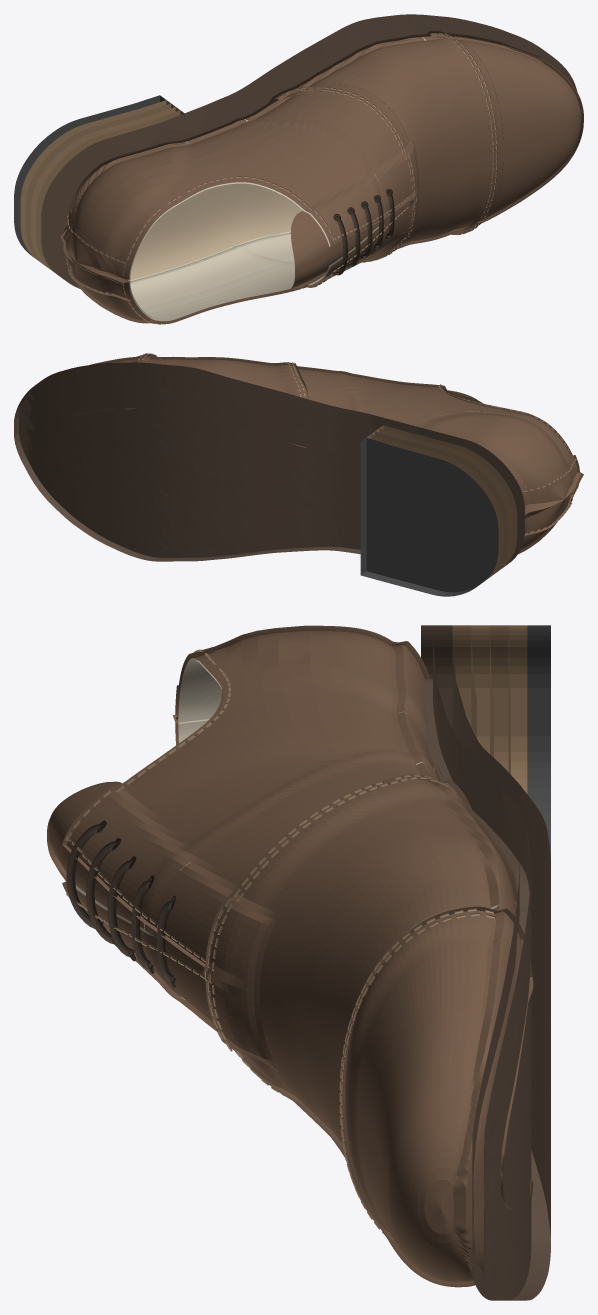
File: oxford_42_sx.glb
The picture shows the model from 3 angles, top to bottom: view 1: azimuth 30°, elevation 25°; view 2: azimuth 150°, elevation 25°; view 3: azimuth 270°, elevation 25°; orthographic projection. The views are drawn at different scales.
Parts seen in each view (by area): view 1: quartiere_esterno, mascherina, puntale, guardolo, sottopiede, fodera_quartiere_interno, suola, bacchetta, quartiere_interno, linguetta, sopratacco, tacco_alzo_3 (+8 smaller); view 2: suola, sopratacco, quartiere_esterno, mascherina, bacchetta, guardolo, tacco_alzo_4, tacco_alzo_1, tacco_alzo_2, tacco_alzo_3; view 3: quartiere_esterno, mascherina, puntale, suola, guardolo, sopratacco, quartiere_interno, linguetta, tacco_alzo_4, tacco_alzo_3, tacco_alzo_2, fodera_quartiere_esterno (+7 smaller).
Boxes of the visible parts, box(x1,y1,x2,y2) form: quartiere_esterno: box(69, 83, 418, 282); mascherina: box(269, 33, 503, 262); puntale: box(427, 30, 583, 234); guardolo: box(46, 18, 577, 289); sottopiede: box(130, 183, 302, 280); fodera_quartiere_interno: box(128, 225, 384, 321); suola: box(41, 14, 542, 278); bacchetta: box(60, 204, 130, 301); quartiere_interno: box(77, 190, 418, 324); linguetta: box(290, 141, 418, 289); sopratacco: box(14, 95, 165, 257); tacco_alzo_3: box(25, 103, 175, 265); suola: box(14, 364, 522, 567); sopratacco: box(360, 437, 498, 596); quartiere_esterno: box(297, 366, 572, 488); mascherina: box(132, 356, 308, 448); bacchetta: box(520, 455, 583, 536); guardolo: box(43, 362, 524, 563); tacco_alzo_4: box(367, 434, 503, 580); tacco_alzo_1: box(379, 425, 517, 570); tacco_alzo_2: box(375, 428, 512, 574); tacco_alzo_3: box(371, 431, 507, 578); quartiere_esterno: box(62, 625, 456, 989); mascherina: box(203, 774, 517, 1218); puntale: box(340, 906, 533, 1287); suola: box(433, 625, 550, 1300); guardolo: box(421, 625, 531, 1300); sopratacco: box(527, 625, 550, 856); quartiere_interno: box(62, 720, 295, 1096); linguetta: box(47, 781, 278, 1071); tacco_alzo_4: box(508, 625, 527, 793); tacco_alzo_3: box(490, 625, 510, 773); tacco_alzo_2: box(471, 625, 493, 757); fodera_quartiere_esterno: box(178, 658, 425, 870).
Bounding box in the file's own units: 293 × 109 × 128.
